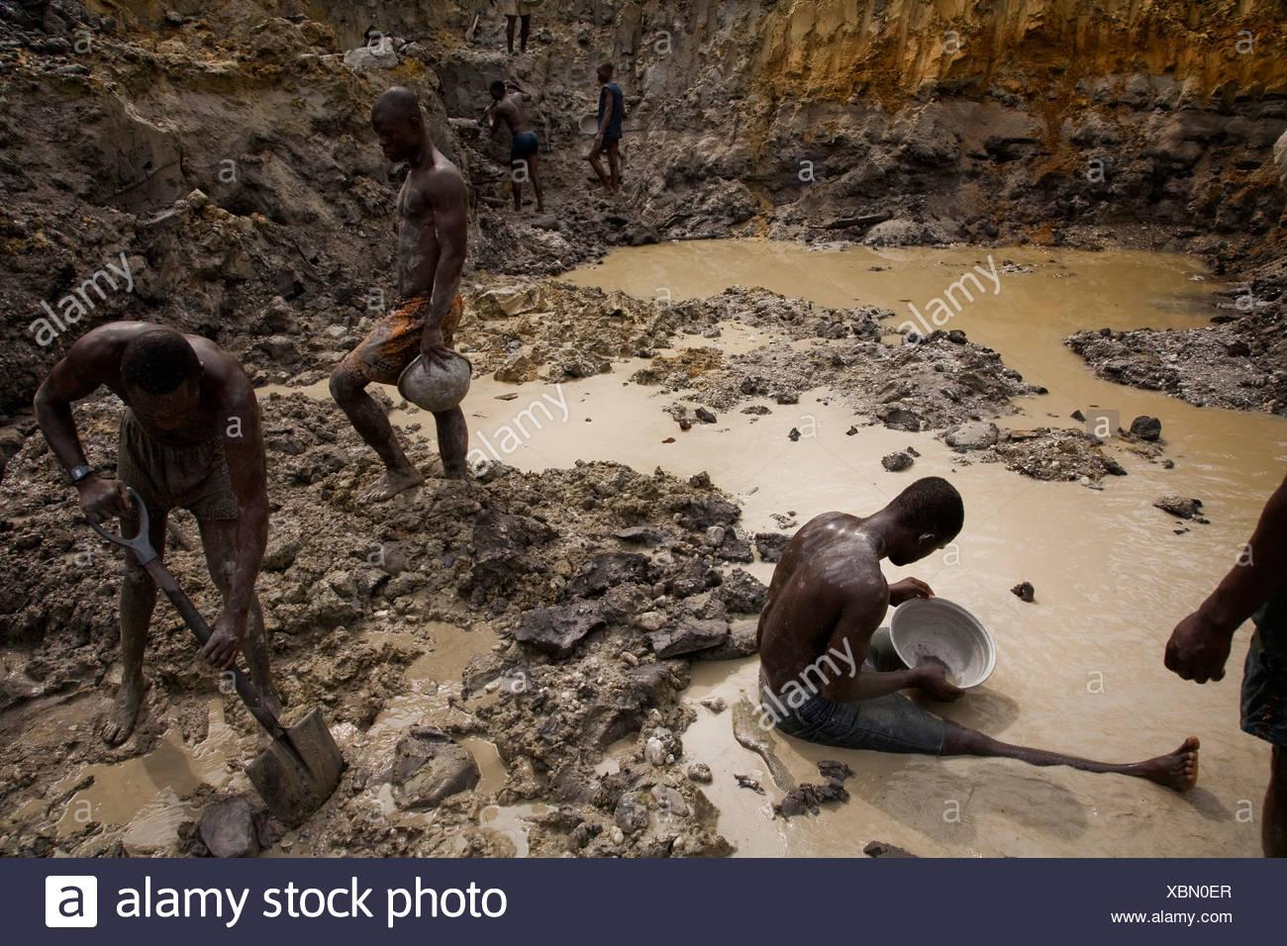MiningTool: (82, 485, 344, 839), (890, 587, 998, 695), (396, 348, 475, 419), (478, 84, 508, 127), (463, 11, 482, 45), (578, 112, 601, 136)
Person: (755, 463, 1199, 825), (19, 323, 308, 757), (326, 85, 470, 505), (1162, 471, 1287, 858), (487, 80, 545, 217), (584, 64, 629, 199), (504, 1, 536, 54)
